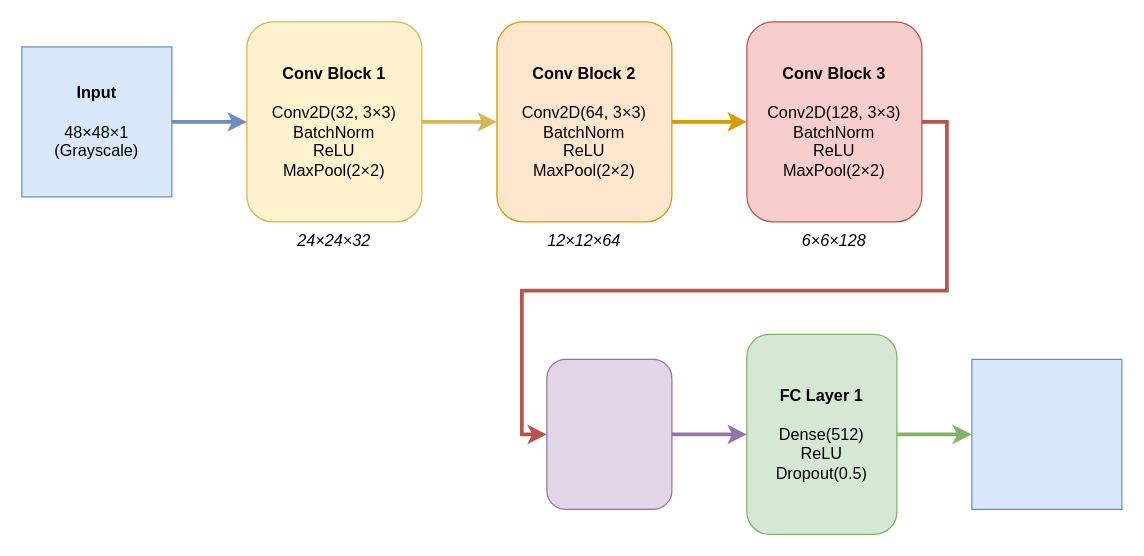
Image size: 1144x556. Some labels were removed from this diagram. Each missing label, with the box of its shape:
Flatten 4608: (546, 358, 672, 509)
Output Dense(7) Softmax 7 emotions: (971, 358, 1122, 509)
